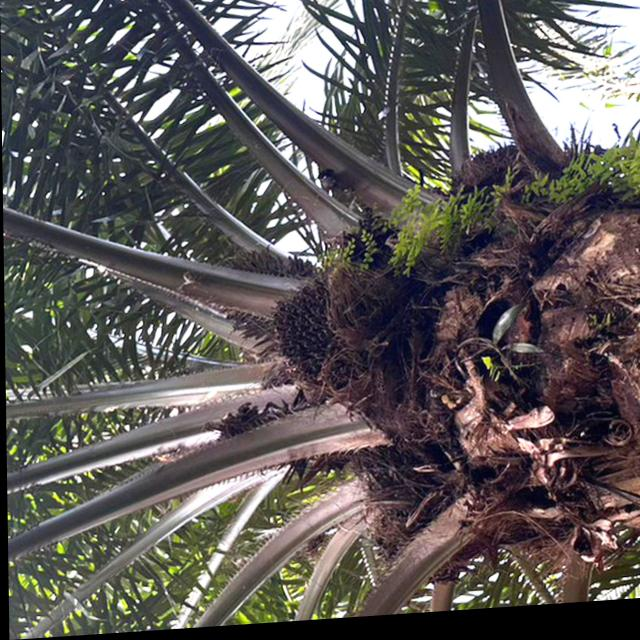almost: (268, 280, 358, 408)
